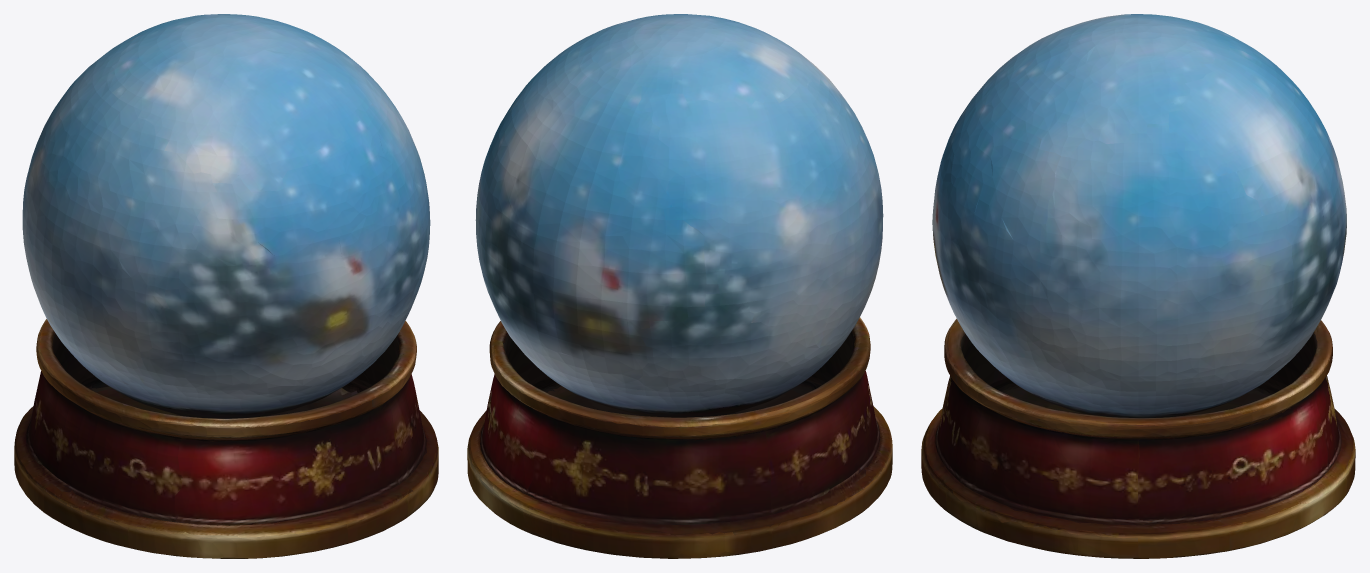
3 renders of one model, left to right at view 1: azimuth 30°, elevation 25°; view 2: azimuth 150°, elevation 25°; view 3: azimuth 270°, elevation 25°, orthographic.
Parts seen in each view (by area): view 1: world; view 2: world; view 3: world.
Boxes of the visible parts, box(x1,y1,x2,y2) form: world: box(14, 14, 438, 558); world: box(467, 14, 892, 558); world: box(921, 14, 1355, 558).
Bounding box in the file's own units: 0.8699 × 0.9962 × 0.8929.
1 material, 1 textured.
